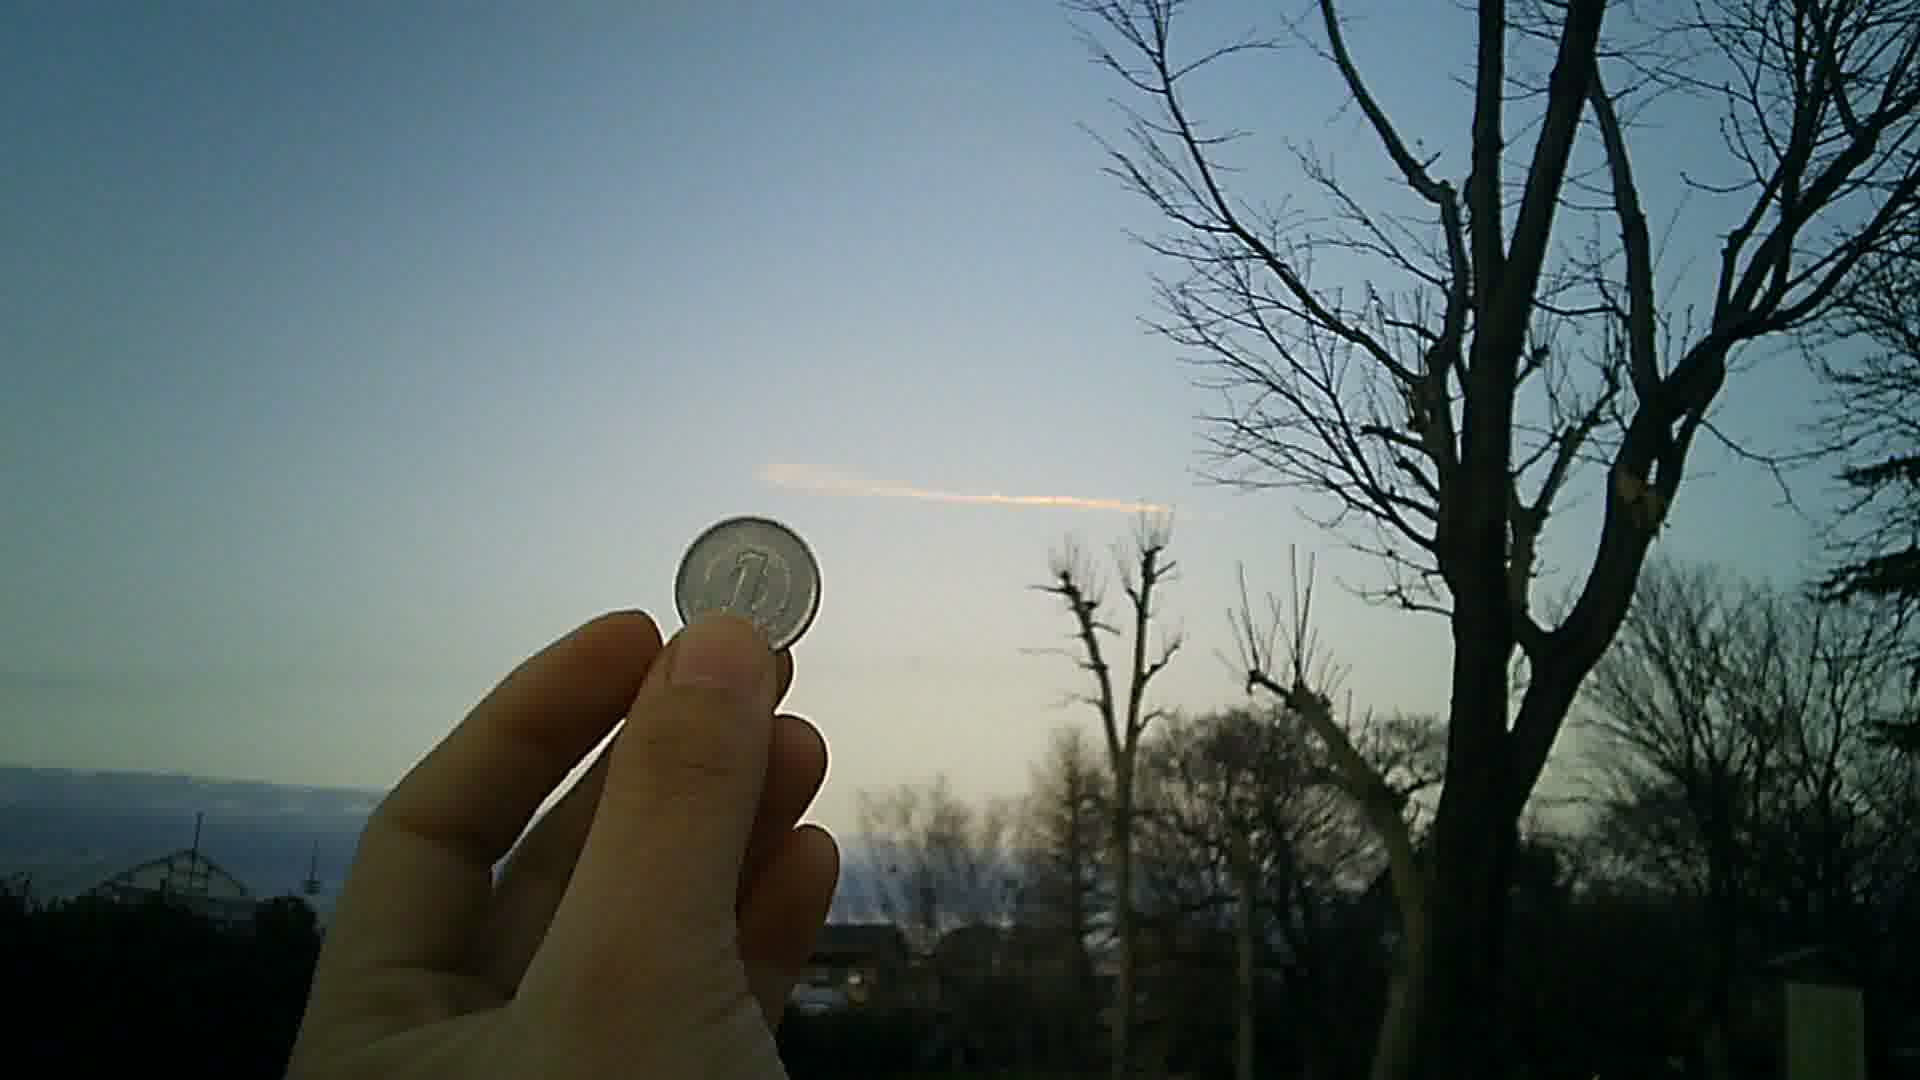1 Yen: (666, 512, 825, 673)
